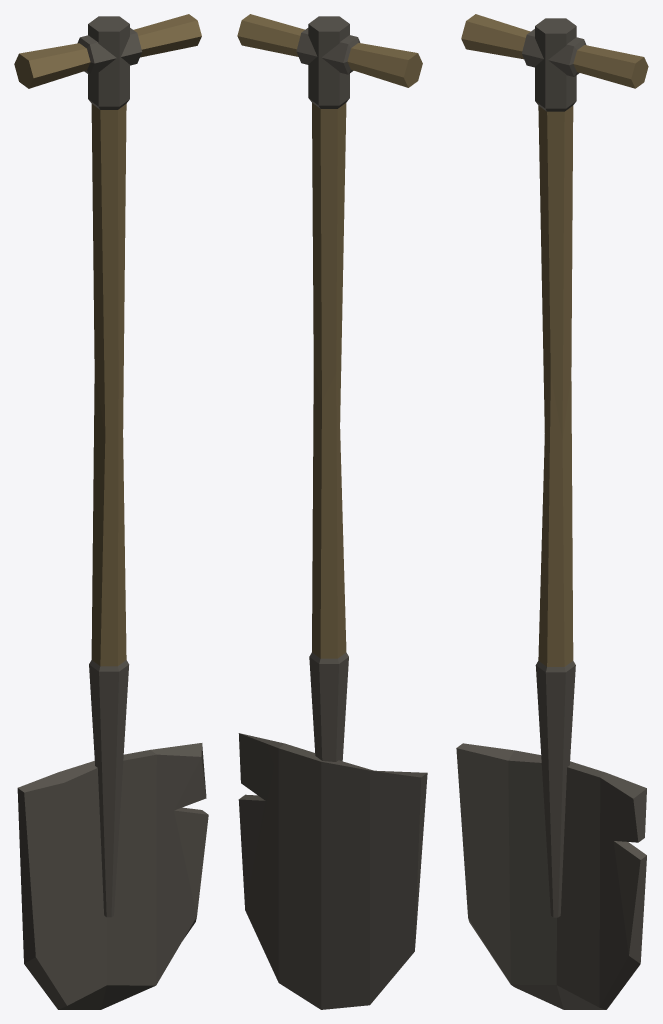
Rendered from Shovel.fbx.
The picture shows the model from 3 angles, left to right: view 1: azimuth 30°, elevation 25°; view 2: azimuth 150°, elevation 25°; view 3: azimuth 330°, elevation 25°; orthographic projection.
Parts seen in each view (by area): view 1: Shovel; view 2: Shovel; view 3: Shovel.
Part boxes in pixels (<box>): Shovel: <box>14,14,208,1009</box>; Shovel: <box>237,14,427,1009</box>; Shovel: <box>456,14,648,1009</box>.
Size of the model in its own units: 31.2 by 160 by 6.15.
